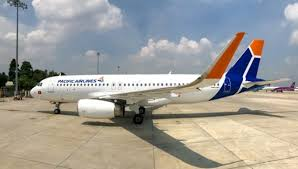maybay_dansu: (25, 40, 287, 122)
